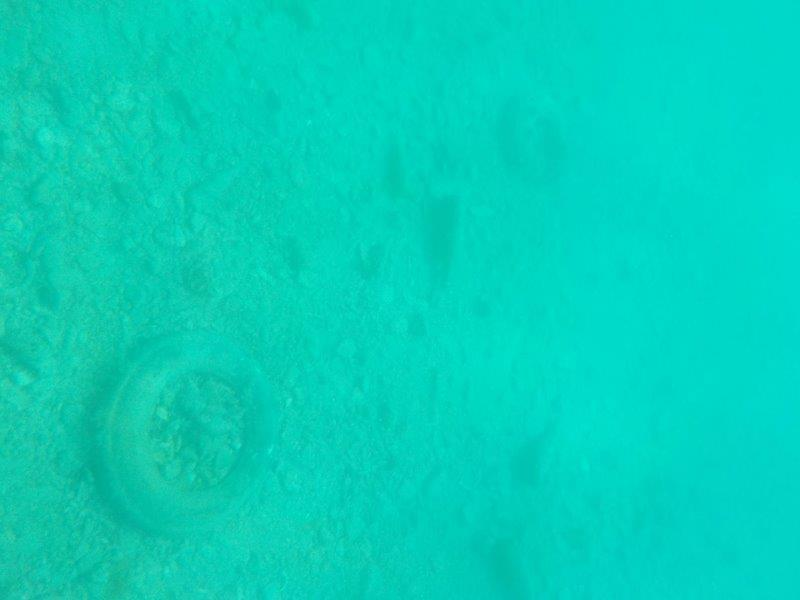bottle: (431, 189, 476, 300), (520, 397, 568, 495)
tire: (88, 324, 287, 545), (494, 82, 580, 187)
